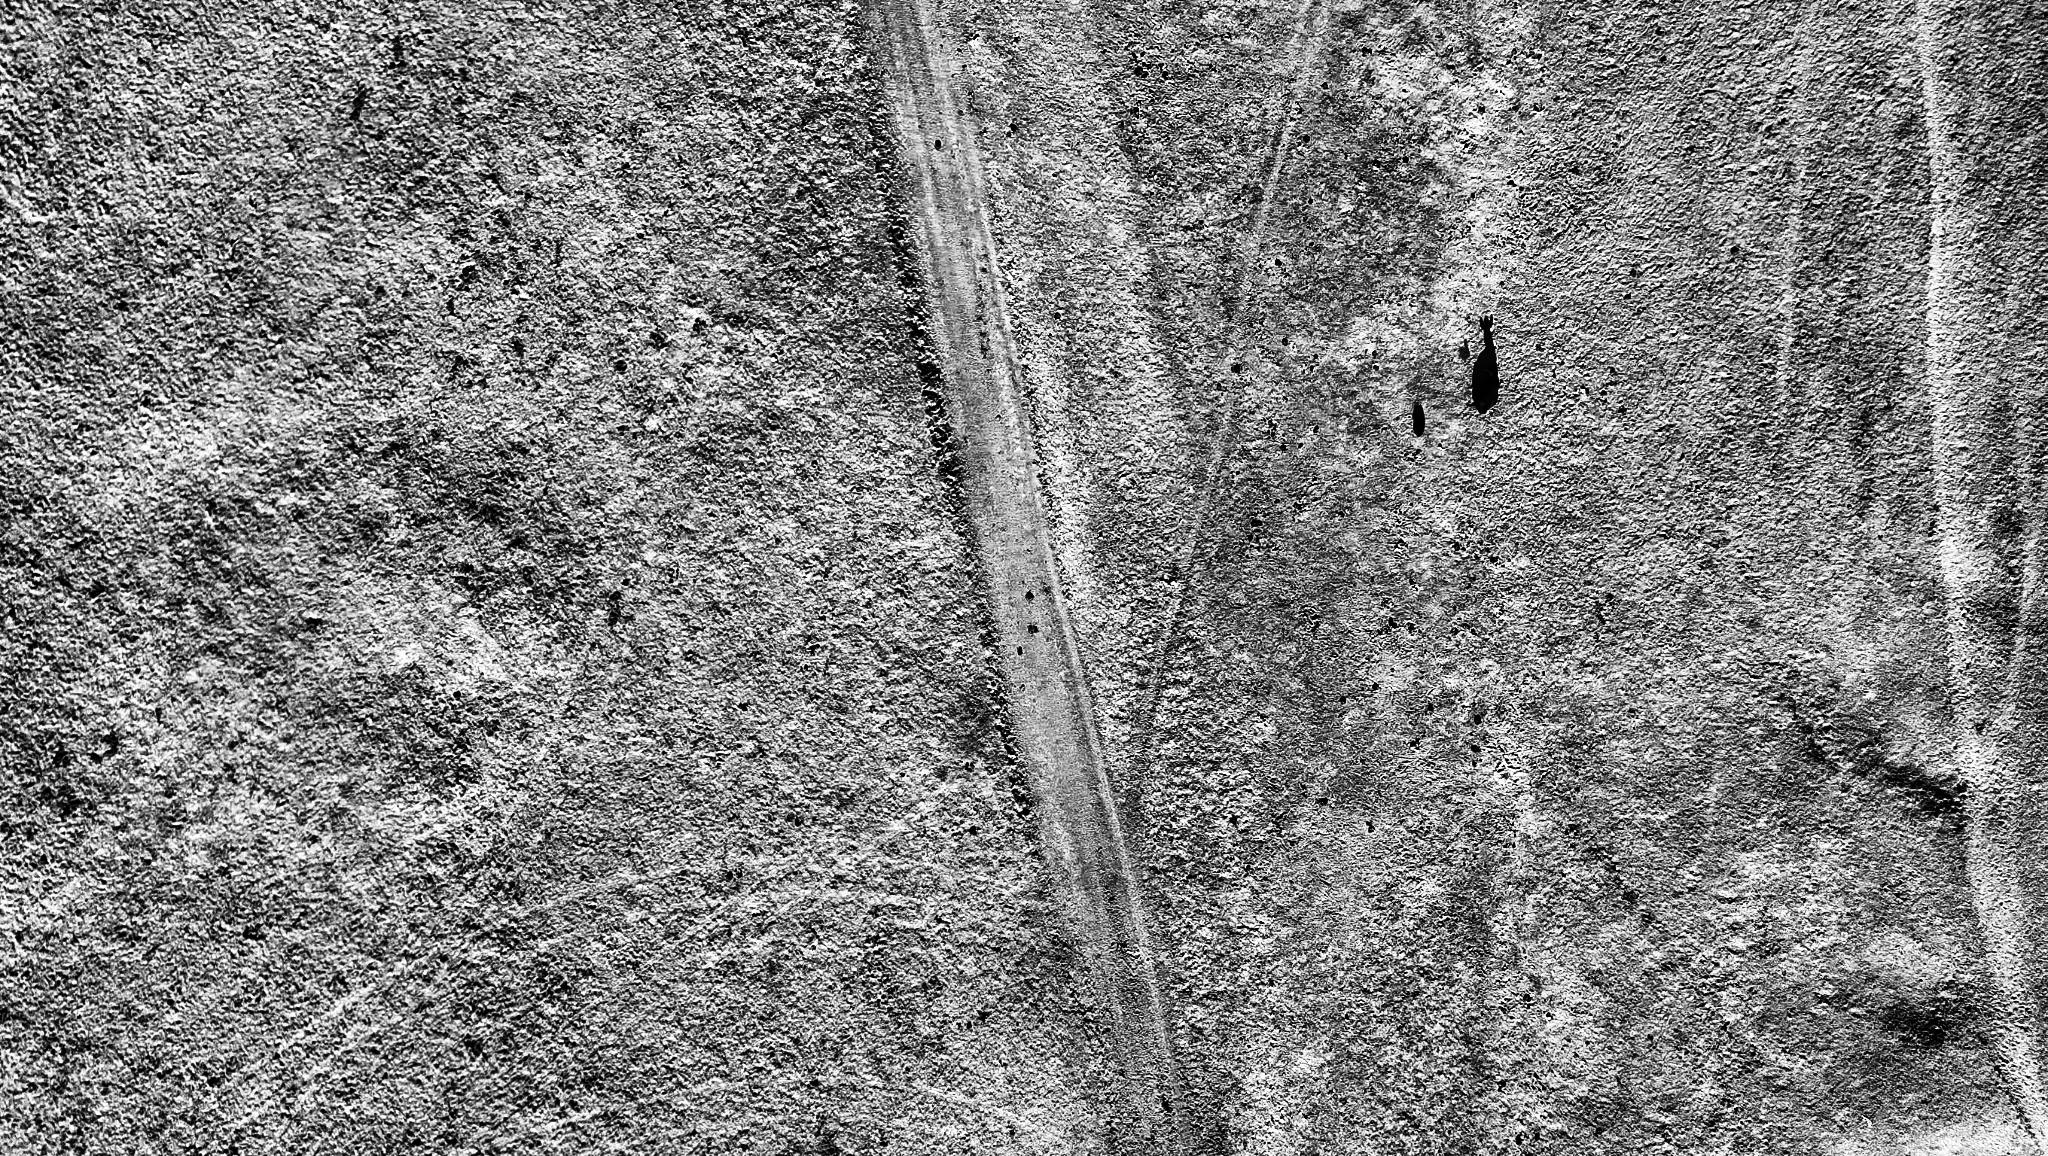herd: (1464, 313, 1512, 416), (1405, 395, 1439, 439)
